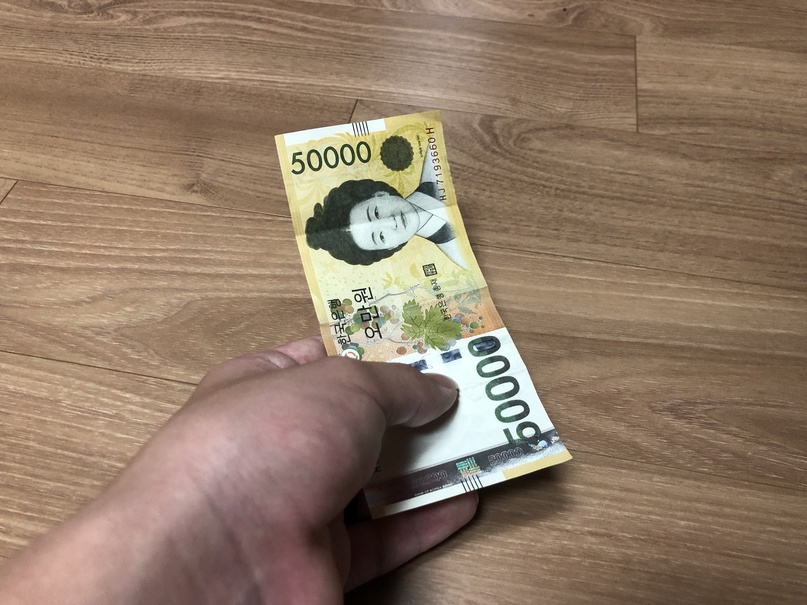50000won: (273, 108, 573, 520)
